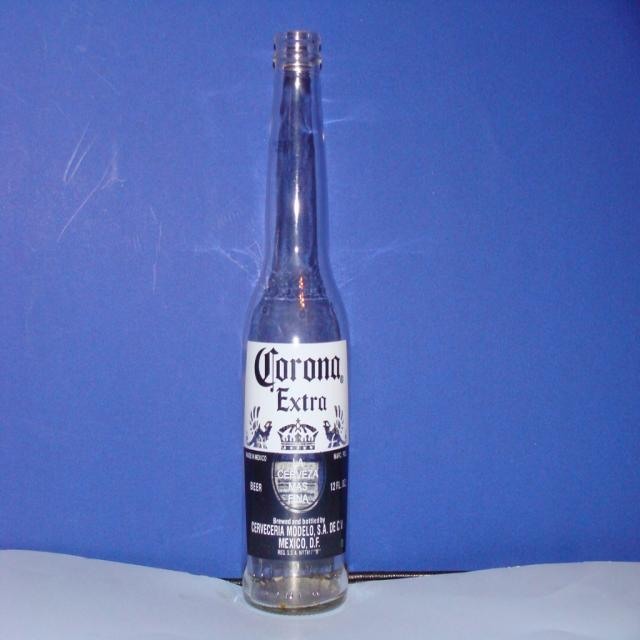corona: (245, 341, 350, 563)
